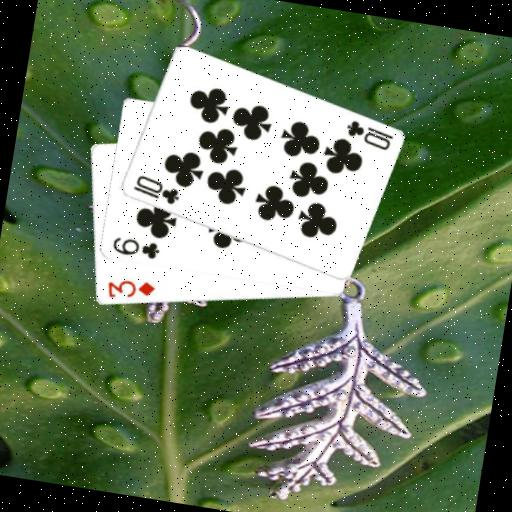10C: (340, 115, 396, 153), (128, 170, 183, 207)
3D: (102, 273, 157, 306)
6C: (108, 233, 162, 262)
